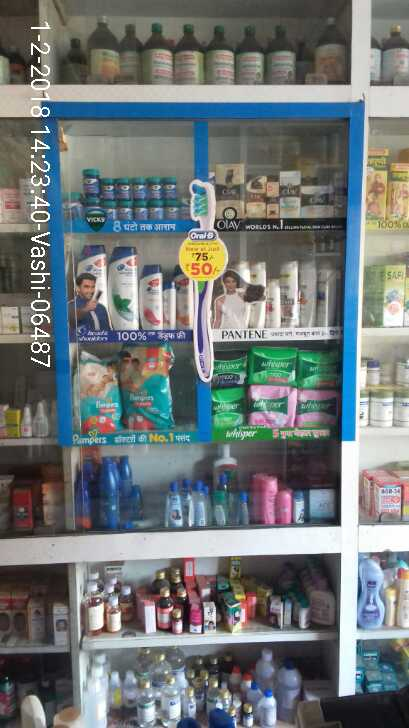beauty: (107, 244, 137, 331), (214, 164, 245, 219), (139, 264, 162, 330), (297, 257, 317, 327), (279, 257, 299, 326), (317, 262, 336, 328), (301, 185, 334, 218), (278, 168, 299, 218), (245, 175, 266, 217), (161, 281, 177, 330), (264, 279, 280, 328), (265, 180, 278, 219)
pharmacy: (118, 344, 180, 433), (73, 355, 123, 435), (247, 385, 299, 429), (247, 345, 299, 384), (296, 347, 341, 391), (206, 348, 248, 389), (293, 389, 339, 425), (210, 388, 250, 428), (81, 167, 97, 197), (146, 174, 163, 201), (116, 201, 136, 223), (129, 178, 146, 201), (161, 178, 178, 201), (133, 200, 149, 224), (99, 178, 115, 201), (115, 180, 131, 201), (147, 200, 163, 220), (163, 202, 178, 221)
